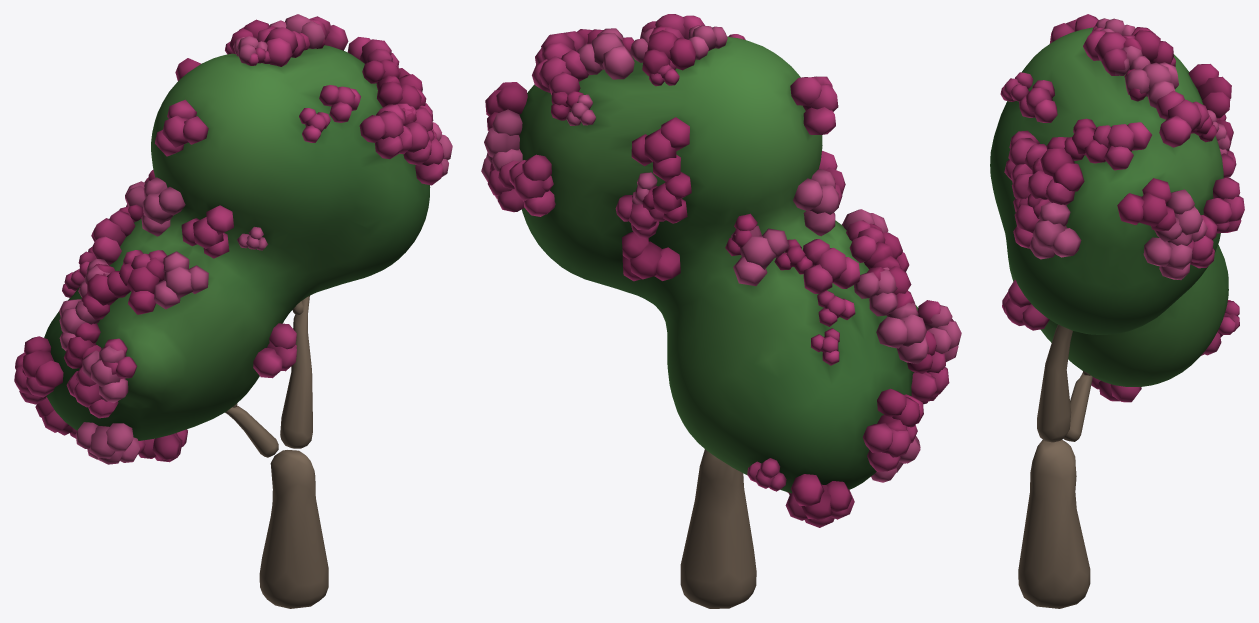
File: tree_07_6.glb
3 views of the same model, side by side, from view 1: azimuth 30°, elevation 25°; view 2: azimuth 150°, elevation 25°; view 3: azimuth 270°, elevation 25° (orthographic). The views are drawn at different scales.
Parts seen in each view (by area): view 1: canopy, blooms, bark; view 2: canopy, blooms, bark; view 3: canopy, blooms, bark.
Part boxes in pixels (left/top/right/bottom): canopy: left=44, top=45, right=430, bottom=440; blooms: left=14, top=14, right=452, bottom=464; bark: left=225, top=296, right=328, bottom=608; canopy: left=519, top=36, right=917, bottom=493; blooms: left=481, top=14, right=961, bottom=527; bark: left=680, top=449, right=756, bottom=608; canopy: left=990, top=27, right=1228, bottom=386; blooms: left=1000, top=14, right=1244, bottom=402; bark: left=1018, top=324, right=1092, bottom=608.
Size of the model in its own units: 2.78 by 3.75 by 1.5.
